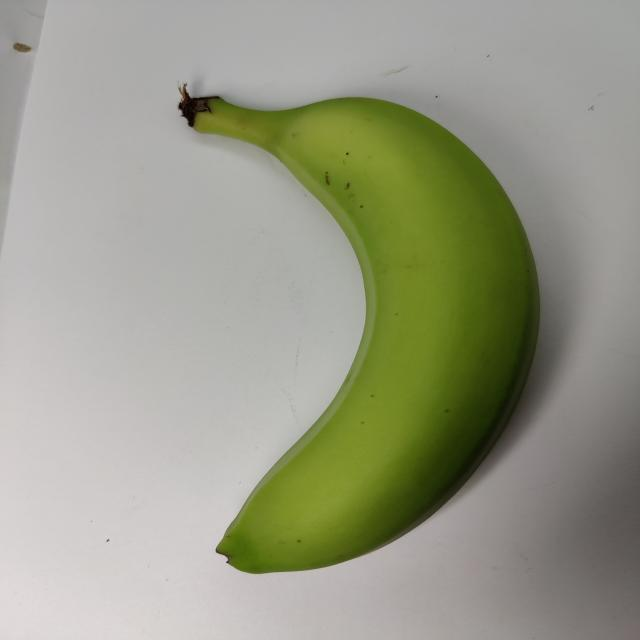raw: (117, 64, 576, 584)
